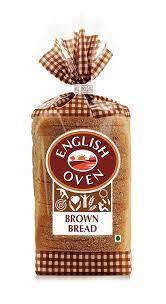bread: (17, 75, 143, 276)
